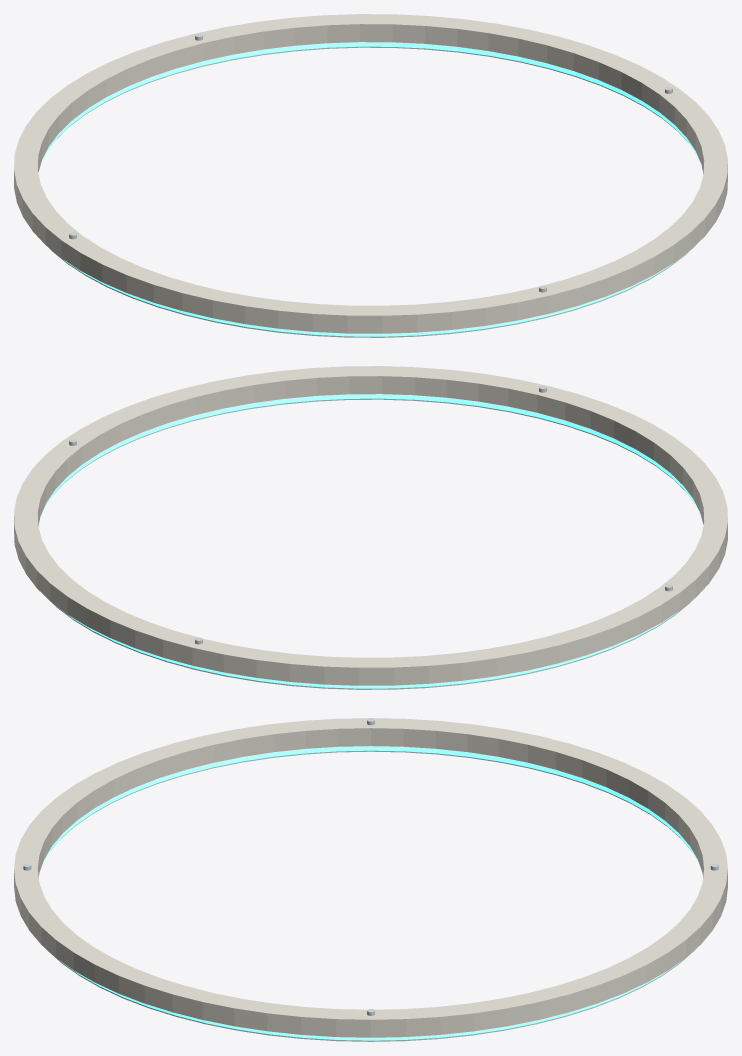
The model's file is s7-lc1-g01-main-ring.glb.
3 renders of one model, top to bottom at view 1: azimuth 30°, elevation 25°; view 2: azimuth 150°, elevation 25°; view 3: azimuth 270°, elevation 25°, orthographic.
Visible parts, largest first — view 1: 000_G01_large_main_cream_housing, 001_G01_large_main_circumference_led_emitter, 002_G01_large_main_diffuser; view 2: 000_G01_large_main_cream_housing, 001_G01_large_main_circumference_led_emitter, 002_G01_large_main_diffuser; view 3: 000_G01_large_main_cream_housing, 001_G01_large_main_circumference_led_emitter, 002_G01_large_main_diffuser.
Boxes of the visible parts, x1,y1,x2,y2 form: 000_G01_large_main_cream_housing: (14,14,727,333); 001_G01_large_main_circumference_led_emitter: (41,42,701,336); 002_G01_large_main_diffuser: (49,46,689,337); 000_G01_large_main_cream_housing: (14,366,727,685); 001_G01_large_main_circumference_led_emitter: (40,394,700,688); 002_G01_large_main_diffuser: (52,398,692,689); 000_G01_large_main_cream_housing: (14,718,727,1037); 001_G01_large_main_circumference_led_emitter: (43,746,698,1040); 002_G01_large_main_diffuser: (46,750,695,1041).
Bounding box in the file's own units: 2.16 × 0.095 × 2.16.
